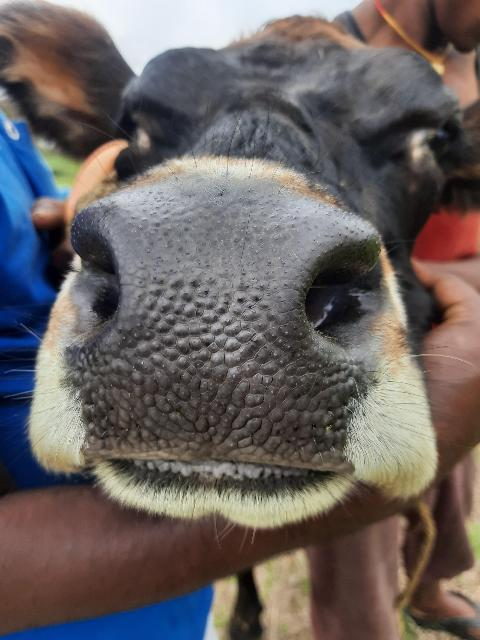Muzzle: (56, 190, 384, 478)
